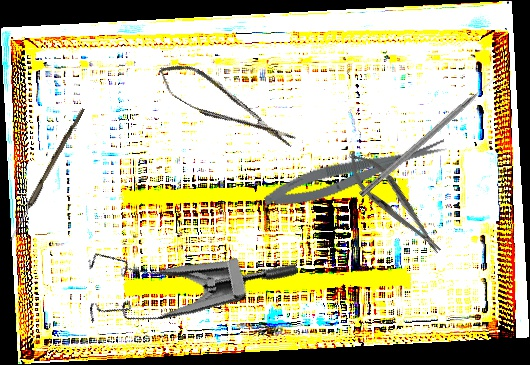Hook Surgical: (358, 74, 500, 199)
Micro Scissor: (151, 52, 301, 162), (260, 132, 451, 215)
Needle Holder: (338, 143, 451, 264)
Speculum: (67, 180, 300, 361)
Surgical Spoon: (7, 106, 86, 243)
